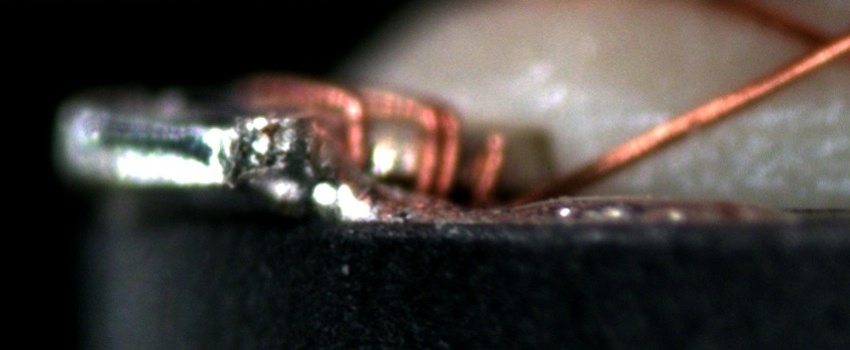CL: (783, 15, 847, 73)
DL: (601, 89, 849, 147)
TE: (223, 75, 516, 202)
